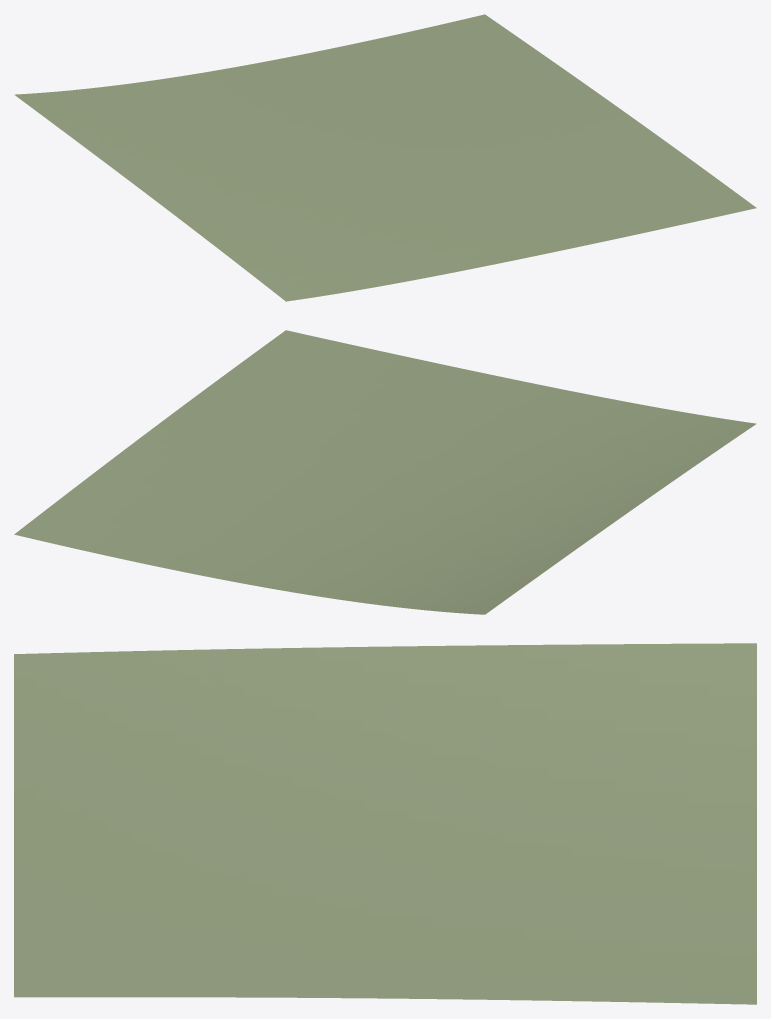
File: expanse-31-26.glb
3 views of the same model, one above another, from view 1: azimuth 30°, elevation 25°; view 2: azimuth 150°, elevation 25°; view 3: azimuth 270°, elevation 25° (orthographic). The views are drawn at different scales.
Parts seen in each view (by area): view 1: expanse-31-26; view 2: expanse-31-26; view 3: expanse-31-26.
Part boxes in pixels (bbox=[...]): expanse-31-26: bbox=[14, 14, 756, 301]; expanse-31-26: bbox=[14, 330, 756, 614]; expanse-31-26: bbox=[14, 643, 756, 1004].
Bounding box in the file's own units: 256 × 18.01 × 256.
